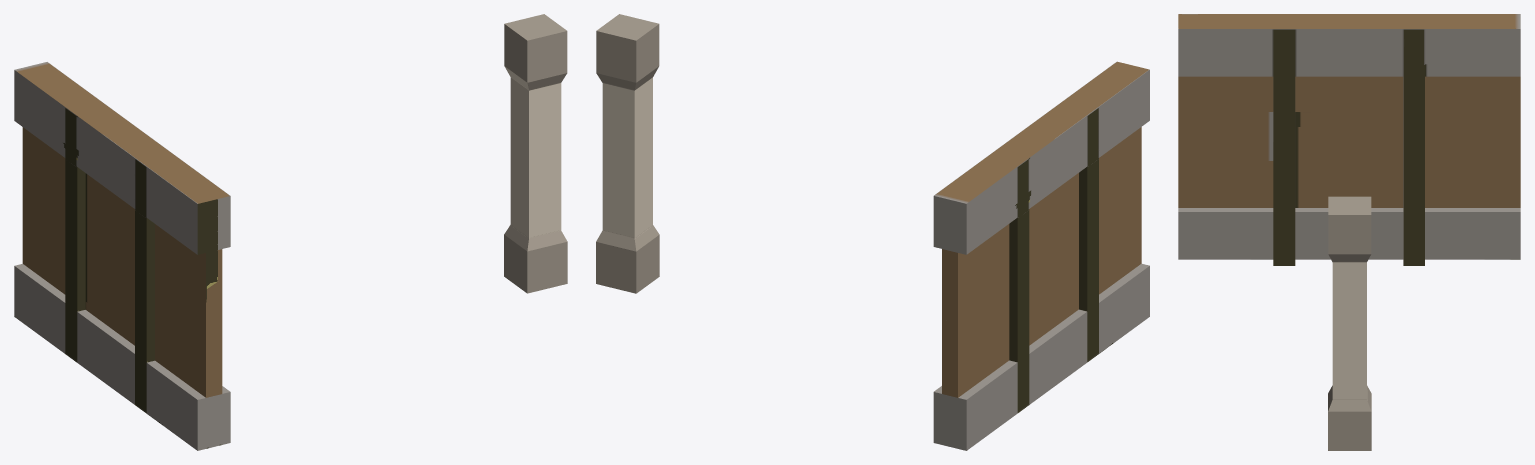
File: Wall_Pillar_210330.fbx
3 views of the same model, side by side, from view 1: azimuth 30°, elevation 25°; view 2: azimuth 150°, elevation 25°; view 3: azimuth 270°, elevation 25° (orthographic). The views are drawn at different scales.
Visible parts, largest first — view 1: Wall, Pillar; view 2: Wall, Pillar; view 3: Wall, Pillar.
Part boxes in pixels (<box>): Wall: <box>14,62,230,450</box>; Pillar: <box>504,14,567,293</box>; Wall: <box>933,61,1149,450</box>; Pillar: <box>596,14,659,293</box>; Wall: <box>1178,14,1520,265</box>; Pillar: <box>1328,196,1371,450</box>.
Bounding box in the file's own units: 3701 × 1987 × 2610.
Materials: 2 (2 with a texture image).
